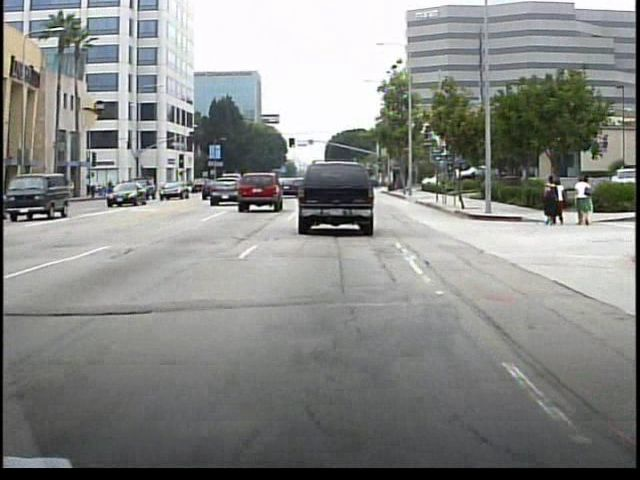person: (573, 174, 593, 228), (542, 176, 559, 229), (556, 180, 568, 227)
